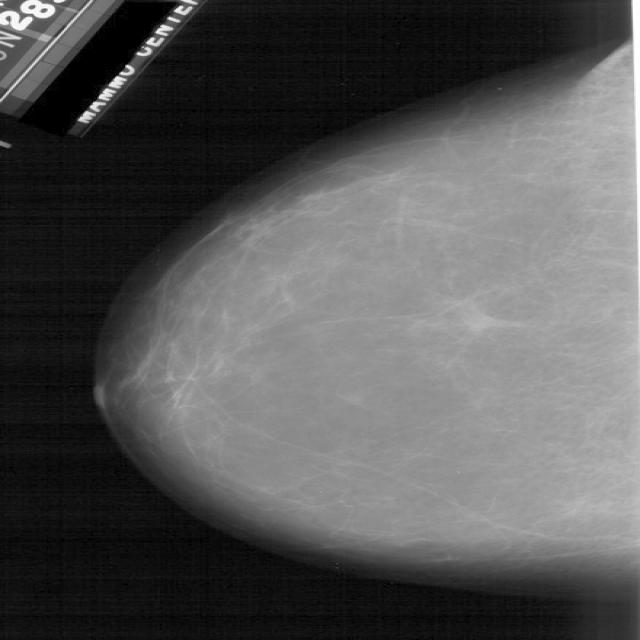tumour: (455, 306, 506, 330)
